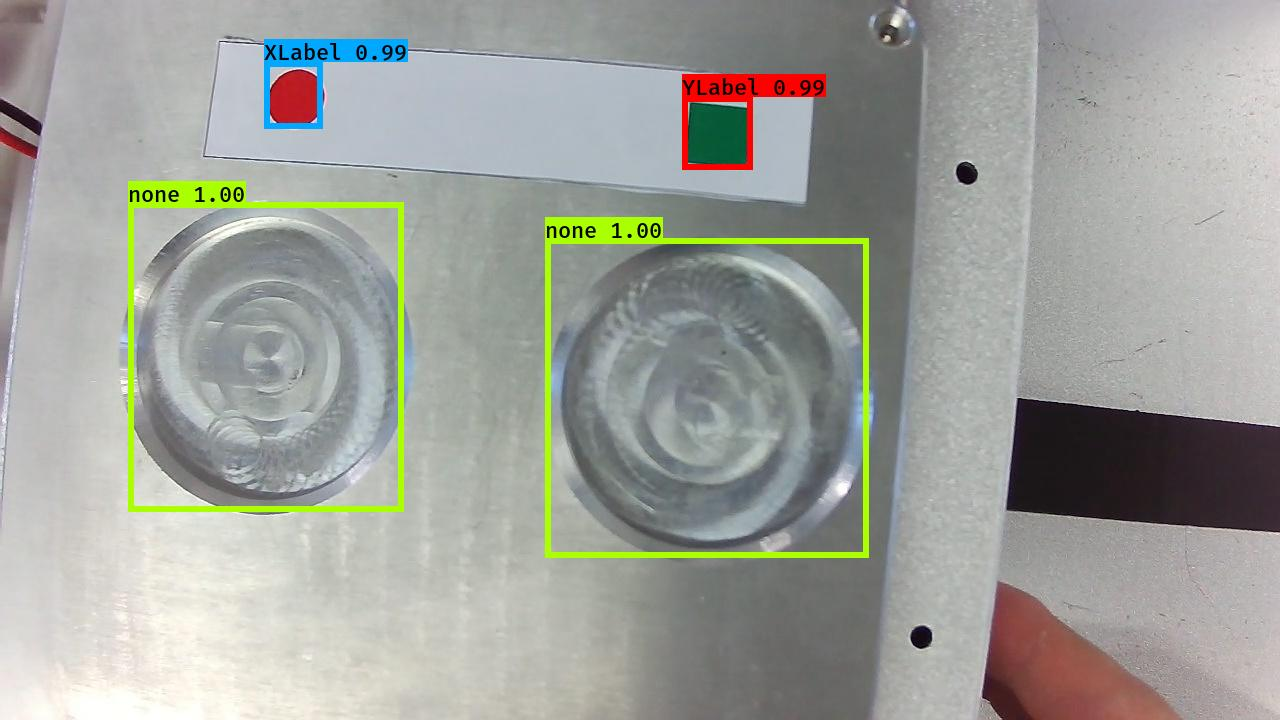XLabel: (261, 67, 327, 133)
YLabel: (680, 97, 753, 171)
none: (541, 232, 879, 568), (115, 197, 418, 514)
